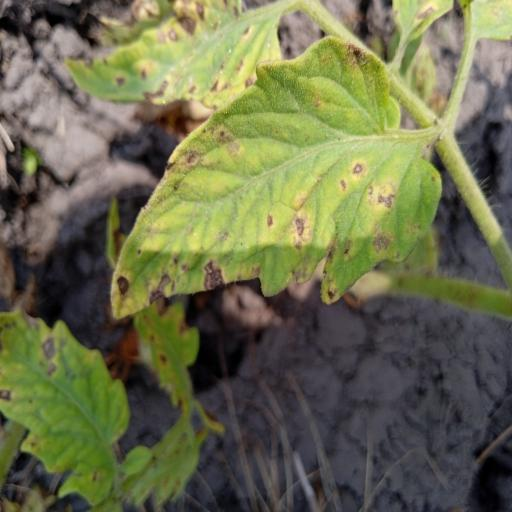Tomato_Brown_Spots: (102, 25, 450, 331)
